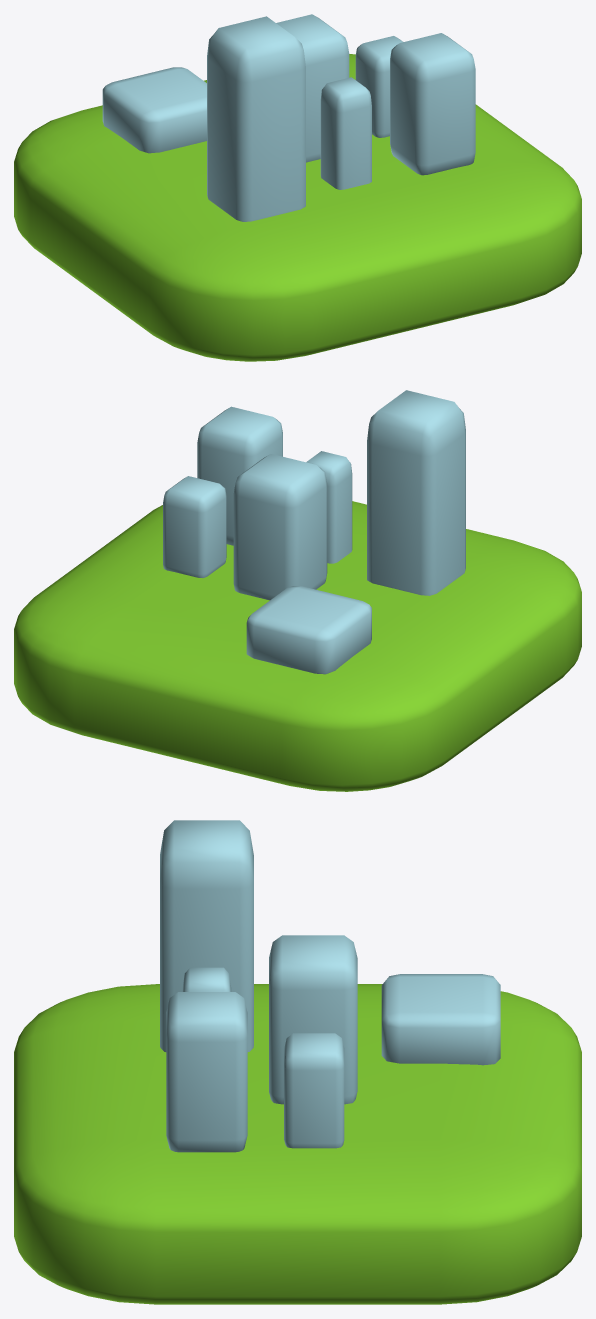
File: town-tile-01.dae
3 views of the same model, one above another, from view 1: azimuth 30°, elevation 25°; view 2: azimuth 150°, elevation 25°; view 3: azimuth 270°, elevation 25° (orthographic). The views are drawn at different scales.
Parts seen in each view (by area): view 1: Base, Cube.015, Cube.007, Cube.018, Cube.017, Cube.016, Cube.014; view 2: Base, Cube.015, Cube.016, Cube.018, Cube.014, Cube.007, Cube.017; view 3: Base, Cube.015, Cube.007, Cube.016, Cube.018, Cube.014, Cube.017.
Part boxes in pixels (left/top/right/bottom): Base: left=14, top=54, right=581, bottom=361; Cube.015: left=207, top=16, right=305, bottom=221; Cube.007: left=390, top=33, right=475, bottom=175; Cube.018: left=102, top=67, right=206, bottom=153; Cube.017: left=320, top=77, right=371, bottom=189; Cube.016: left=276, top=14, right=349, bottom=162; Cube.014: left=355, top=36, right=403, bottom=137; Base: left=14, top=501, right=581, bottom=791; Cube.015: left=367, top=390, right=465, bottom=595; Cube.016: left=233, top=454, right=327, bottom=600; Cube.018: left=246, top=586, right=371, bottom=674; Cube.014: left=163, top=476, right=226, bottom=577; Cube.007: left=197, top=406, right=282, bottom=545; Cube.017: left=306, top=451, right=352, bottom=563; Base: left=14, top=984, right=581, bottom=1304; Cube.015: left=160, top=820, right=253, bottom=1051; Cube.007: left=166, top=992, right=247, bottom=1152; Cube.016: left=269, top=935, right=357, bottom=1104; Cube.018: left=381, top=974, right=500, bottom=1065; Cube.014: left=284, top=1033, right=344, bottom=1148; Cube.017: left=182, top=967, right=231, bottom=991.
Bounding box in the file's own units: 2 × 2 × 1.28.
